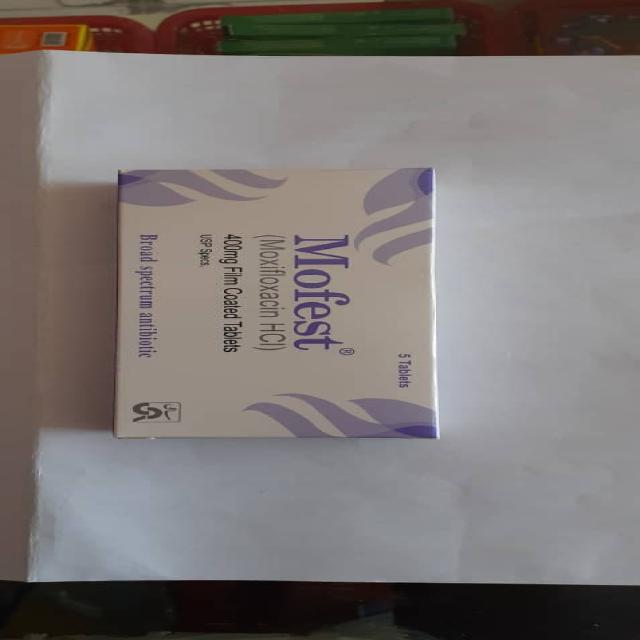drug-name: (292, 230, 350, 354)
